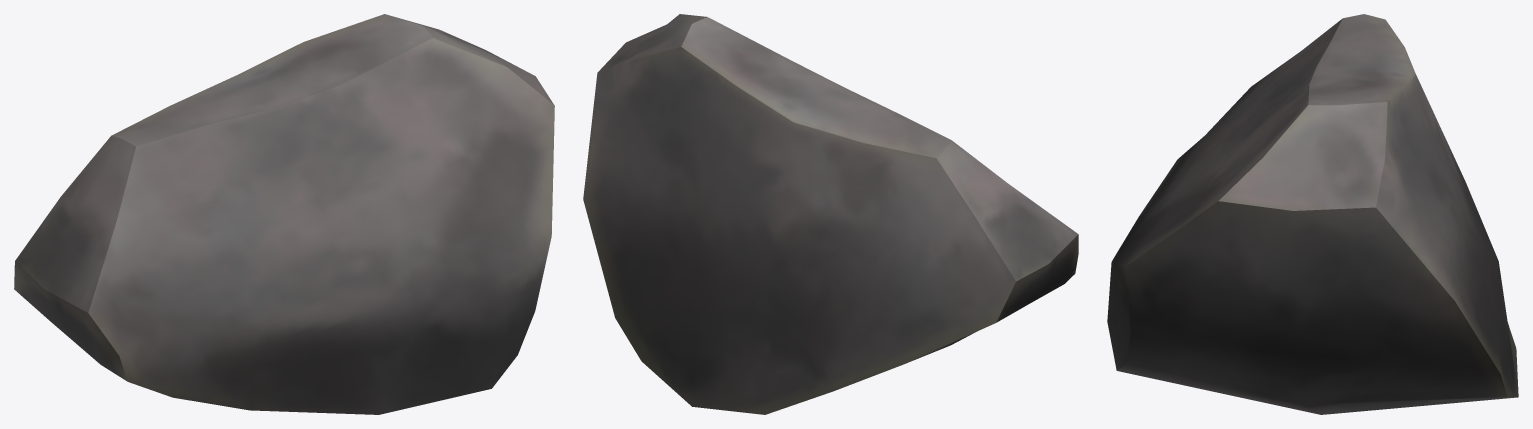
The model's file is SM_Rocks_Small.02.fbx.
The picture shows the model from 3 angles, left to right: view 1: azimuth 30°, elevation 25°; view 2: azimuth 150°, elevation 25°; view 3: azimuth 270°, elevation 25°; orthographic projection. The views are drawn at different scales.
Parts seen in each view (by area): view 1: SM_Rock_Small.02; view 2: SM_Rock_Small.02; view 3: SM_Rock_Small.02.
Part boxes in pixels (bbox=[...]): SM_Rock_Small.02: bbox=[14, 14, 554, 414]; SM_Rock_Small.02: bbox=[583, 14, 1078, 414]; SM_Rock_Small.02: bbox=[1107, 14, 1518, 414].
Bounding box in the file's own units: 1.38 × 0.9118 × 1.01.
